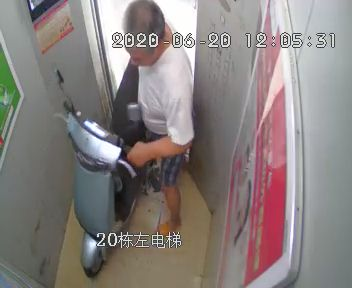Electric-bicycle: (51, 69, 150, 278)
